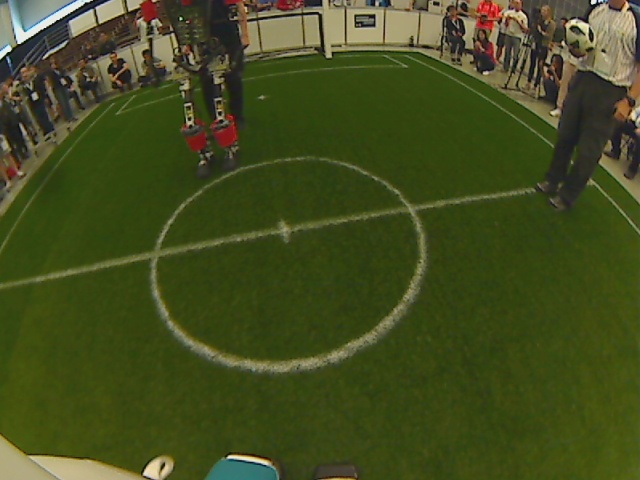ball: (562, 18, 596, 56)
